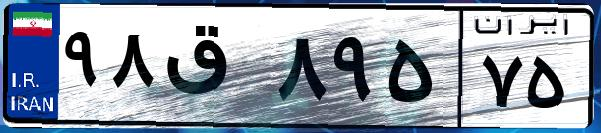5: (385, 28, 445, 110), (525, 38, 570, 115)
7: (475, 38, 525, 113)
8: (270, 28, 330, 110), (110, 28, 158, 98)
9: (330, 28, 385, 110), (57, 26, 110, 100)
ق: (158, 20, 270, 120)
